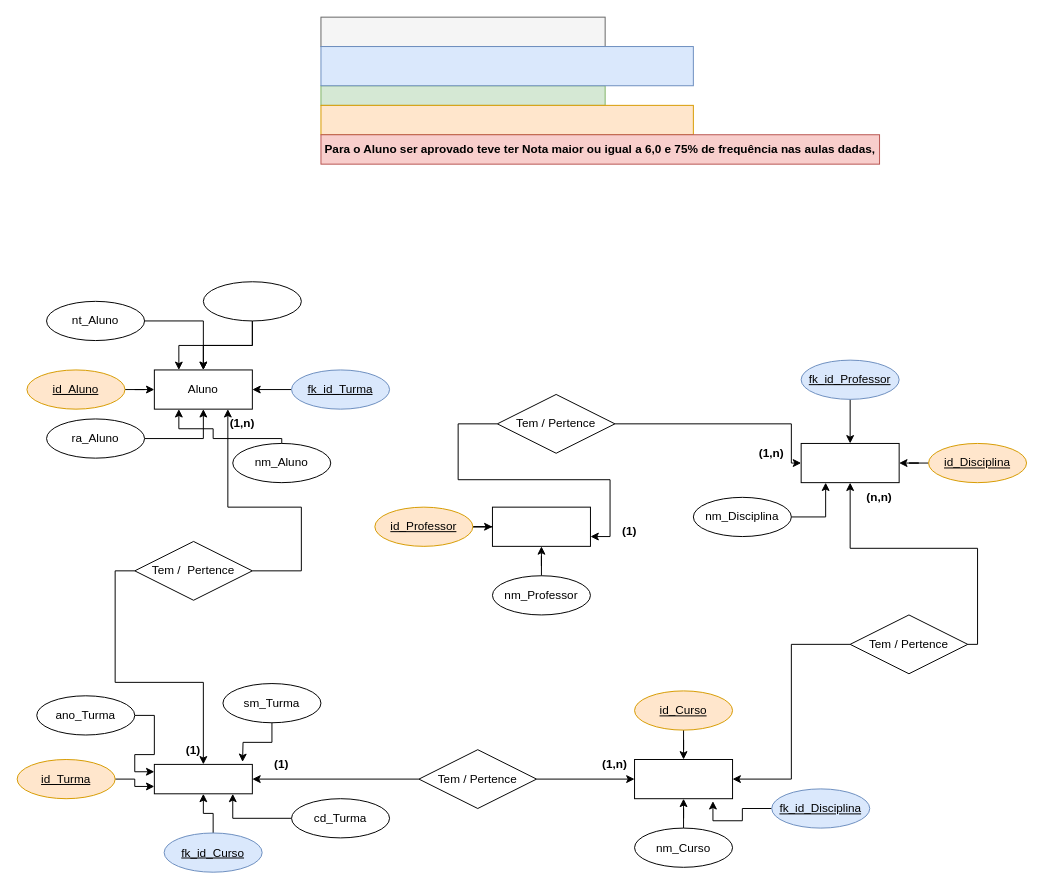
The diagram is 1044 pixels wide and 890 high, and some of its shapes have lost their labels. Each missing label, with the centre of its shape:
"As Turmas pertencem a um determinado Curso." goes at (462,95).
"Curso" goes at (683,779).
"Disciplina" goes at (849,462).
"frq_Aluno" goes at (251,301).
"Os Alunos têm Disciplinas específicas em cada Ano e Semestre Letivo" goes at (506,66).
"Os dados dos Alunos que Turmas estuda ou estudou" goes at (462,31).
"Os professores lançam as Notas e o Sistema informa as Faltas" goes at (506,119).
"Professor" goes at (540,526).
"Turma" goes at (202,778).
